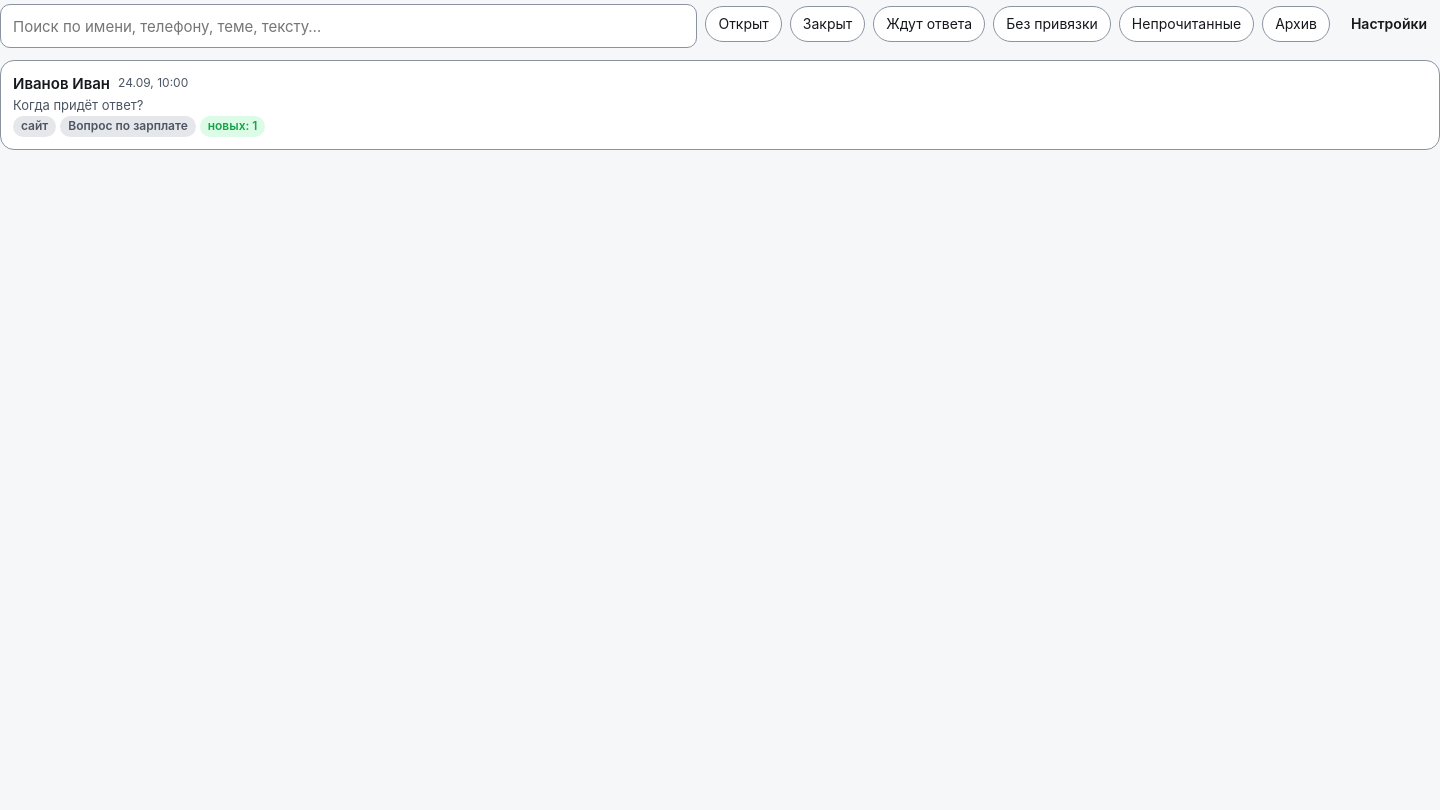
it: cb с support:manage не видит архив/удаление
What coordinates should you click on to do the following:
click the text "Иванов Иван"
I would click on:
 (62, 84)
Its box is [13, 73, 110, 94].
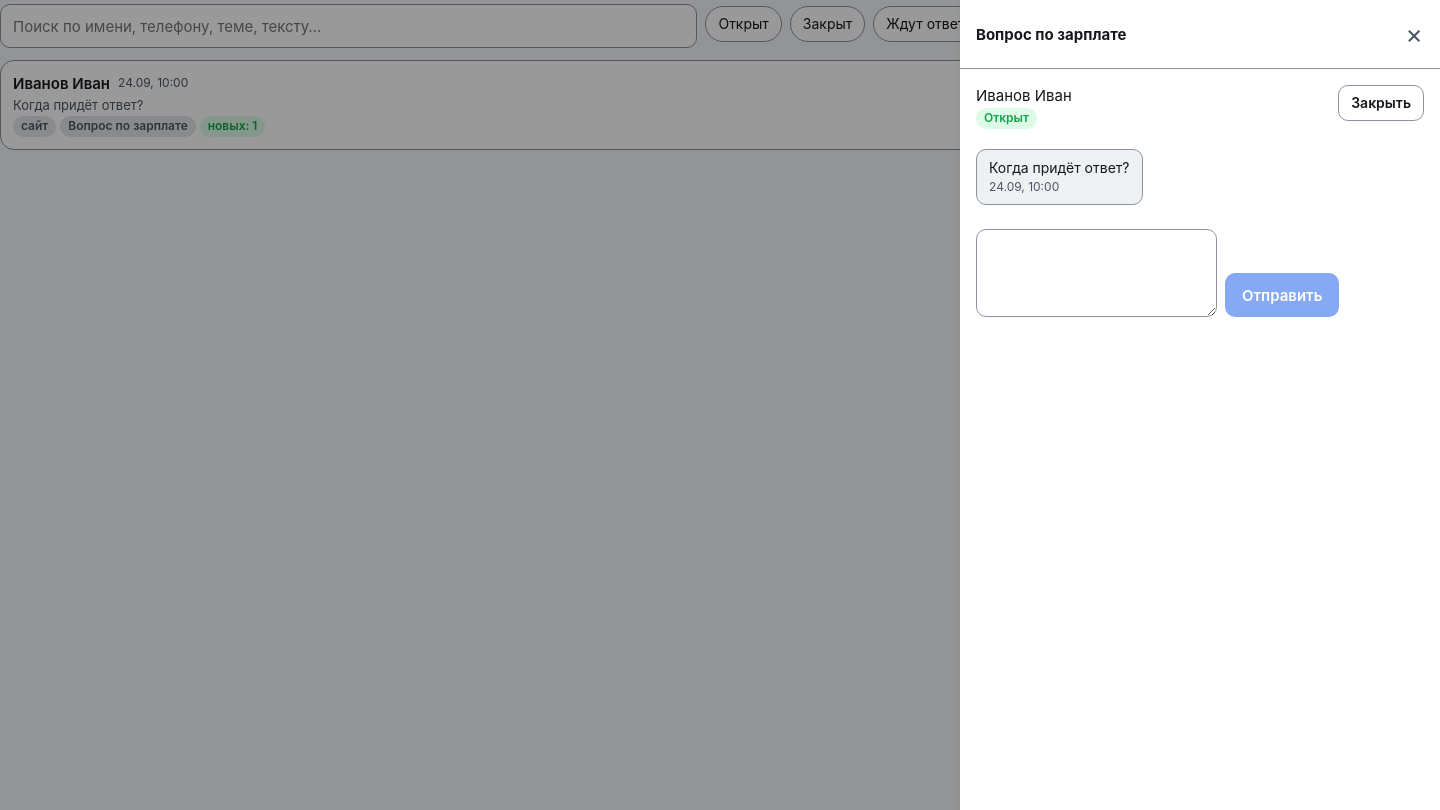
Now the dialog is shown, box [960, 0, 1439, 809]
